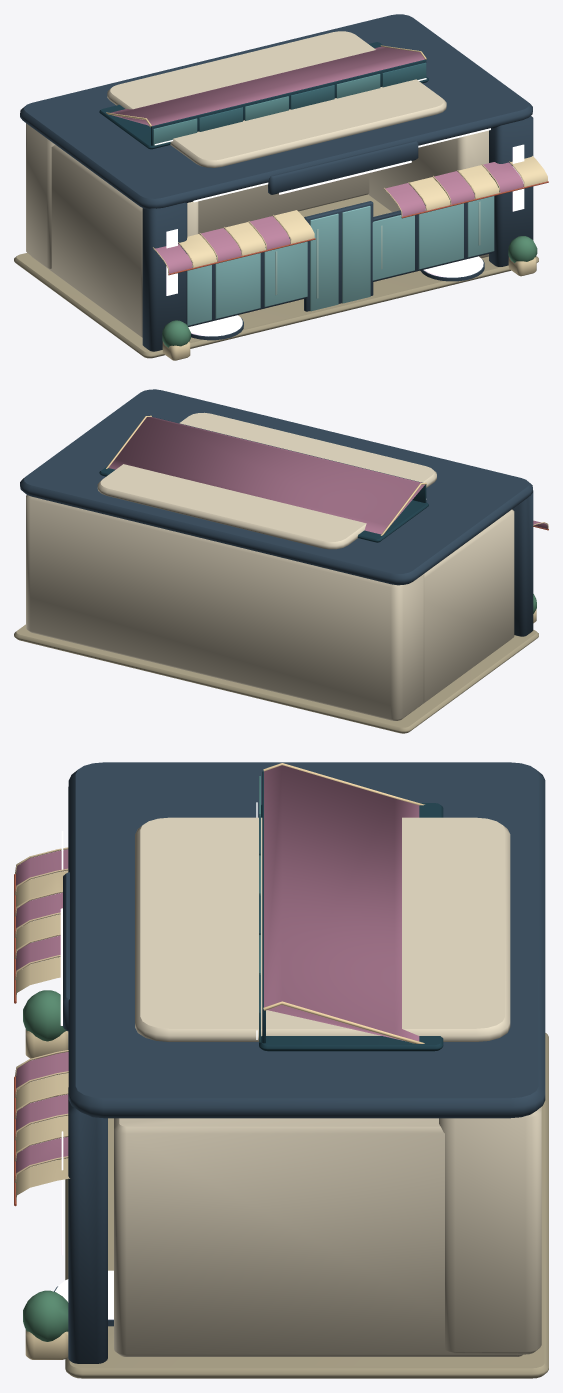
Rendered from luxury_dealership.glb.
3 renders of one model, top to bottom at view 1: azimuth 30°, elevation 25°; view 2: azimuth 150°, elevation 25°; view 3: azimuth 270°, elevation 25°, orthographic. The views are drawn at different scales.
Visible parts, largest first — view 1: LuxuryDealership; view 2: LuxuryDealership; view 3: LuxuryDealership.
Part boxes in pixels (box(x1,y1,x2,y2)): LuxuryDealership: box(14, 14, 548, 360); LuxuryDealership: box(14, 389, 548, 733); LuxuryDealership: box(14, 762, 548, 1378).
Size of the model in its own units: 11.48 by 5.07 by 7.54.
